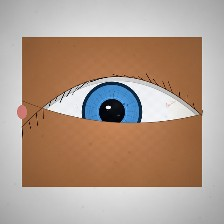hemorrhage_spot: (77, 102, 141, 153)
